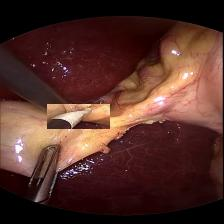Grasper: (22, 140, 58, 206)
Hook: (47, 103, 110, 128)
